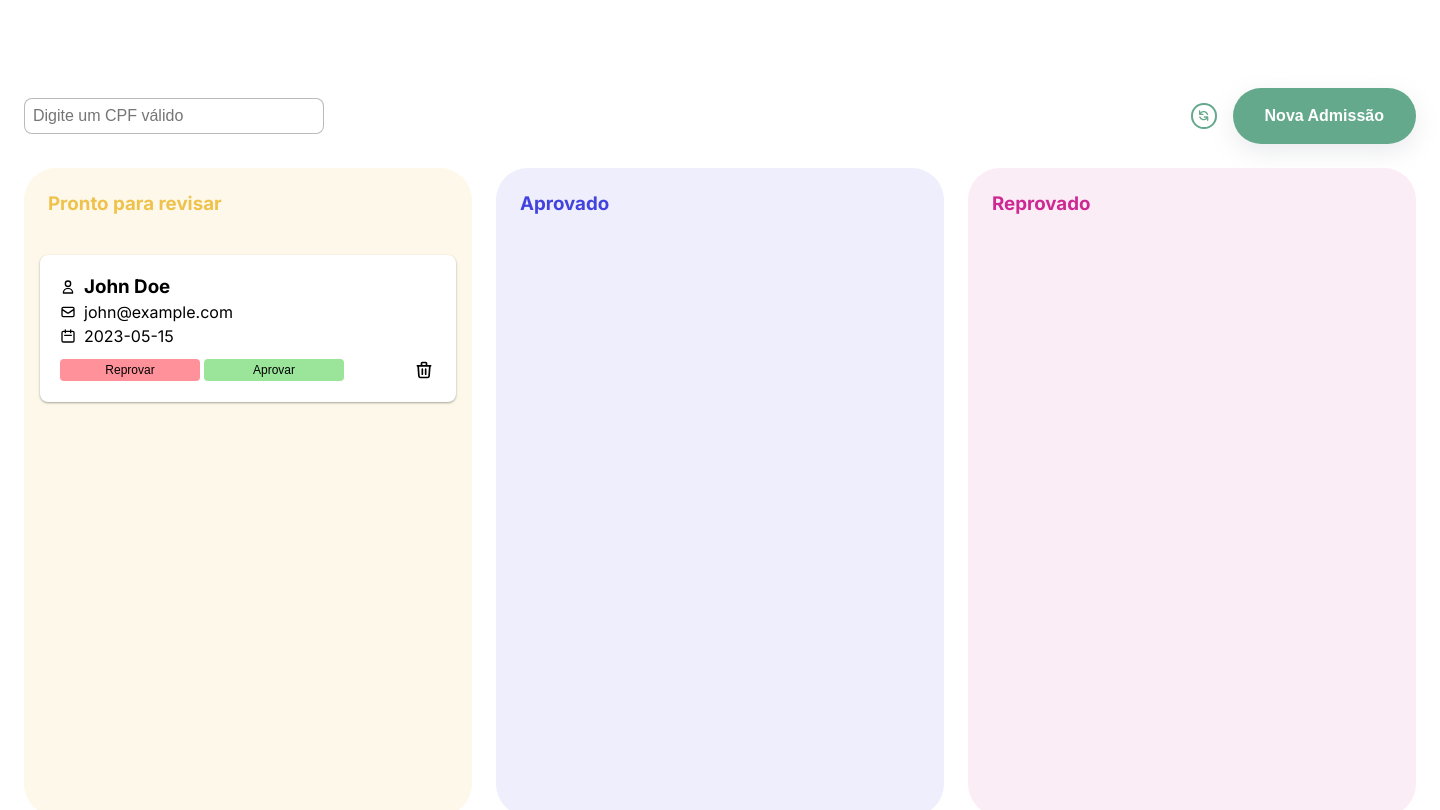
Scenario: DashboardPage › should open modal when approving a candidate
Step 1. Click the button "Aprovar" → x=274, y=370, box [204, 359, 344, 381]
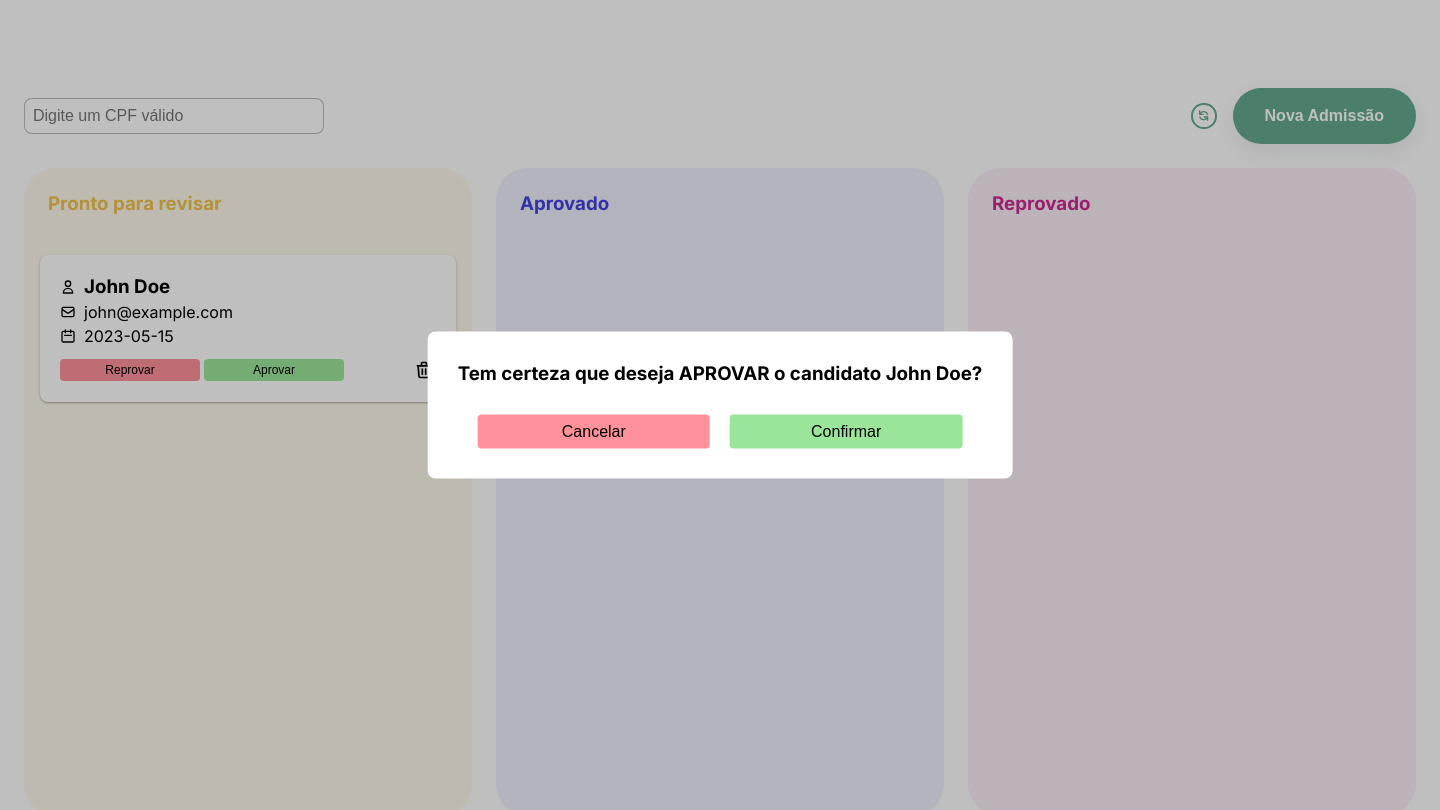
Result: the heading "Tem certeza que deseja APROVAR o candidato John Doe?" is shown at [458, 362, 982, 384]
